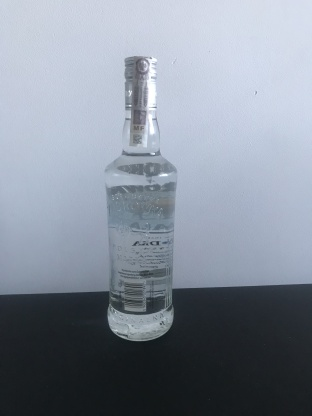nakretka: (121, 50, 159, 114)
